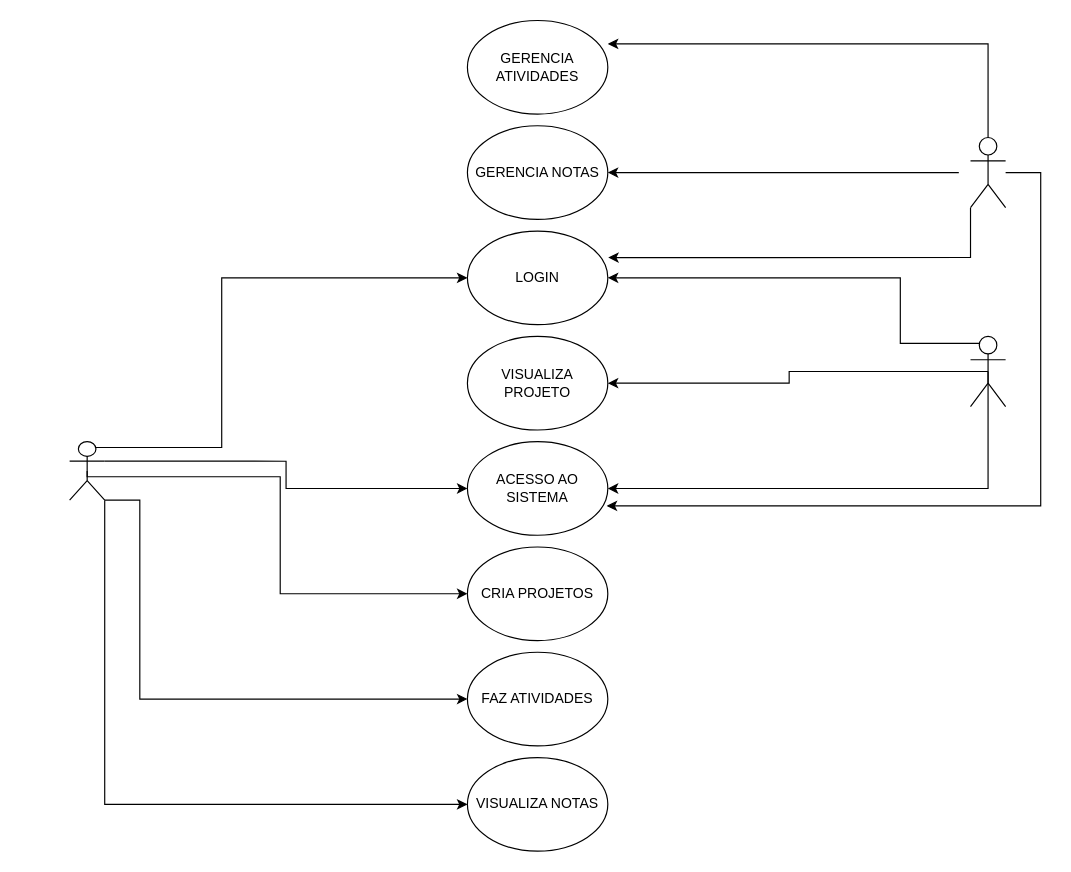
This 1071x872 diagram has some shape labels left out. The shapes that lost their labels are listed below. From the top down, each one's box as (x1, y1, x2, y2) in pixels, then its label:
(969, 136, 1006, 208): ADMINISTRADOR
(969, 335, 1006, 407): EMPRESAS
(68, 441, 105, 500): USUARIOS/ALUNOS
